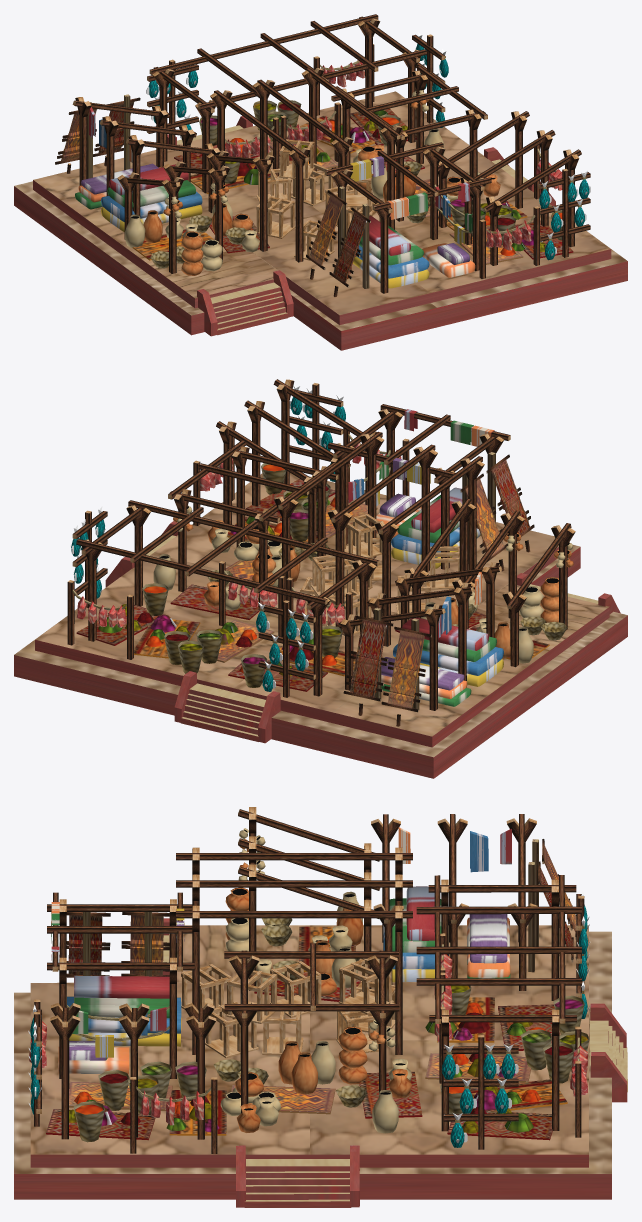
Rendered from market_1.dae.
3 renders of one model, top to bottom at view 1: azimuth 30°, elevation 25°; view 2: azimuth 150°, elevation 25°; view 3: azimuth 270°, elevation 25°, orthographic. The views are drawn at different scales.
Visible parts, largest first — view 1: market; view 2: market; view 3: market.
Part boxes in pixels (x1,y1,x2,y2): market: (14, 14, 627, 350); market: (14, 379, 627, 778); market: (14, 807, 627, 1207).
Bounding box in the file's own units: 26.99 × 27.87 × 9.26.
1 material, 1 textured.
